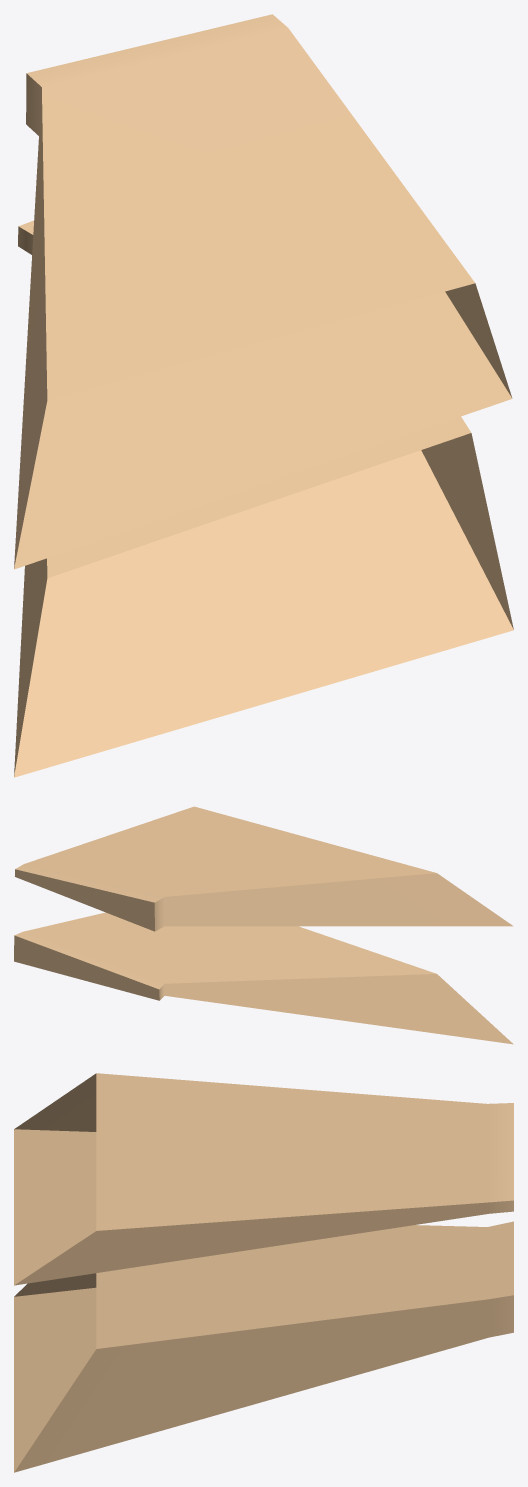
File: AI_FX_LightRay_09.fbx
3 views of the same model, one above another, from view 1: azimuth 30°, elevation 25°; view 2: azimuth 150°, elevation 25°; view 3: azimuth 270°, elevation 25° (orthographic). The views are drawn at different scales.
Parts seen in each view (by area): view 1: AI_FX_LightRay_09; view 2: AI_FX_LightRay_09; view 3: AI_FX_LightRay_09.
Part boxes in pixels (x1,y1,x2,y2): AI_FX_LightRay_09: (14, 14, 513, 777); AI_FX_LightRay_09: (14, 806, 513, 1044); AI_FX_LightRay_09: (14, 1073, 513, 1472).
Bounding box in the file's own units: 4.41 × 2.94 × 4.15.
